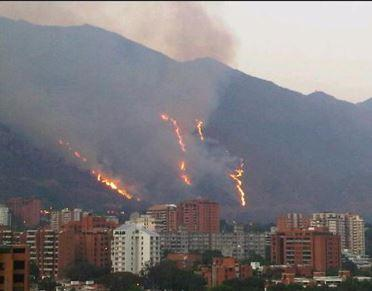fire: (95, 171, 126, 192), (233, 170, 246, 209), (195, 118, 207, 143), (182, 158, 188, 188)
smoke: (168, 73, 215, 108)
